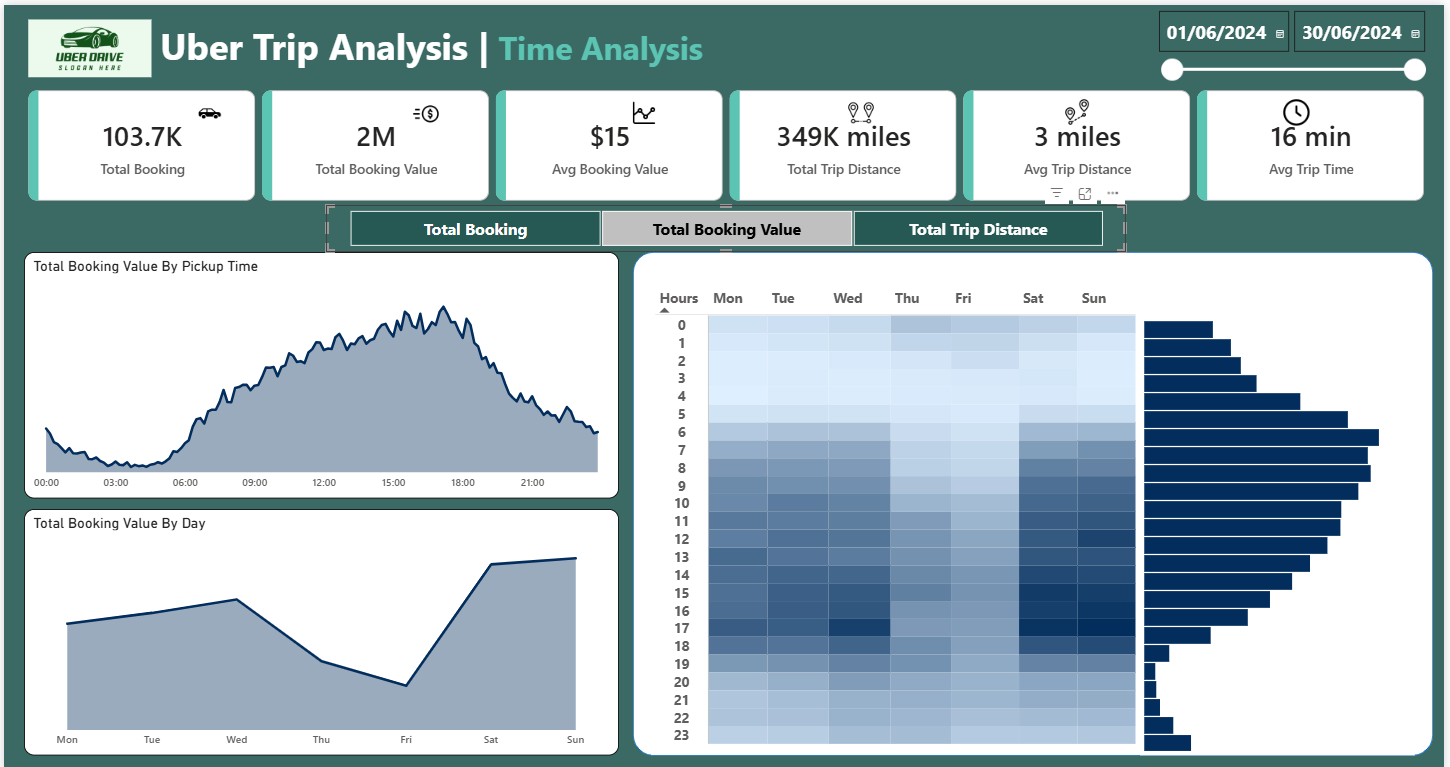

The page's visual inventory and layout, read from the dashboard file:
{"tool":"powerbi","page":{"name":"TIME ANALYSIS","canvas":[1695,900],"ordinal":1},"visuals":[{"type":"cardVisual","fields":{"Data":["Trip Details.Total Booking","Trip Details.Total Booking Value","Trip Details.Avg Booking Value","Trip Details.Total Trip Distance","Trip Details.Avg Trip Distance","Trip Details.Avg Trip Time"]},"box":[23.8,95,1653.8,140],"z":0},{"type":"image","box":[223.8,107.4,37.1,40],"z":1000},{"type":"image","box":[476.6,107.4,40,41.4],"z":2000},{"type":"image","box":[732.4,106,40,41.4],"z":3000},{"type":"image","box":[988.1,106,40,41.4],"z":4000},{"type":"image","box":[1243.8,106,40,40],"z":5000},{"type":"image","box":[1499.5,106,41.4,41.4],"z":6000},{"type":"areaChart","fields":{"Y":["Trip Details.Total Trip Distance Value"],"Category":["Trip Details.Pick Time (bins)"]},"box":[23.8,290,700,290],"z":7000},{"type":"slicer","fields":{"Values":["Default Text.Default Text"]},"box":[378.8,235,941.2,55],"z":8000},{"type":"areaChart","fields":{"Y":["Trip Details.Total Trip Distance Value"],"Category":["Calendar Table.Day of Week"]},"box":[23.8,592.5,700,290],"z":9000},{"type":"shape","box":[740,290,941.2,592.5],"z":10000},{"type":"pivotTable","fields":{"Values":["Trip Details.Total Trip Distance Value"],"Rows":["Trip Details.Pickup Hour"],"Columns":["Calendar Table.Day of Week"]},"box":[761.2,328.8,575,553.8],"z":11000},{"type":"barChart","fields":{"Y":["Trip Details.Total Trip Distance Value"],"Category":["Trip Details.Pickup Hour"],"Series":["Default Text.Title"]},"box":[1336.2,338.8,322.5,543.8],"z":12000},{"type":"image","box":[23.8,0,155,102.5],"z":13000},{"type":"textbox","box":[178.8,13.8,817.5,73.8],"z":14000},{"type":"slicer","fields":{"Values":["Calendar Table.Date"]},"box":[1346.2,0,335,95],"z":15000}]}

Visuals, with their boxes in screenshot pixels (x1, y1, x2, y2), scaled from the page's 1695x900 canvas onto the 1450x767 screenshot:
cardVisual - Trip Details.Total Booking x Trip Details.Total Booking Value: [20,81,1435,200]
image: [191,92,223,126]
image: [408,92,442,127]
image: [627,90,661,126]
image: [845,90,879,126]
image: [1064,90,1098,124]
image: [1283,90,1318,126]
areaChart - Trip Details.Total Trip Distance Value x Trip Details.Pick Time (bins): [20,247,619,494]
slicer - Default Text.Default Text: [324,200,1129,247]
areaChart - Trip Details.Total Trip Distance Value x Calendar Table.Day of Week: [20,505,619,752]
shape: [633,247,1438,752]
pivotTable - Trip Details.Total Trip Distance Value x Trip Details.Pickup Hour: [651,280,1143,752]
barChart - Trip Details.Total Trip Distance Value x Trip Details.Pickup Hour: [1143,289,1419,752]
image: [20,0,153,87]
textbox: [153,12,852,75]
slicer - Calendar Table.Date: [1152,0,1438,81]
